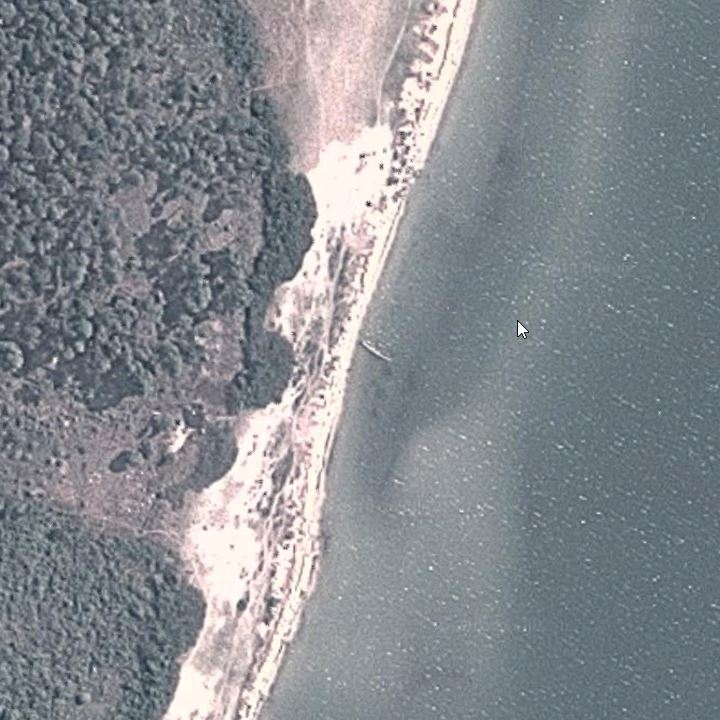boat: (354, 337, 403, 367)
